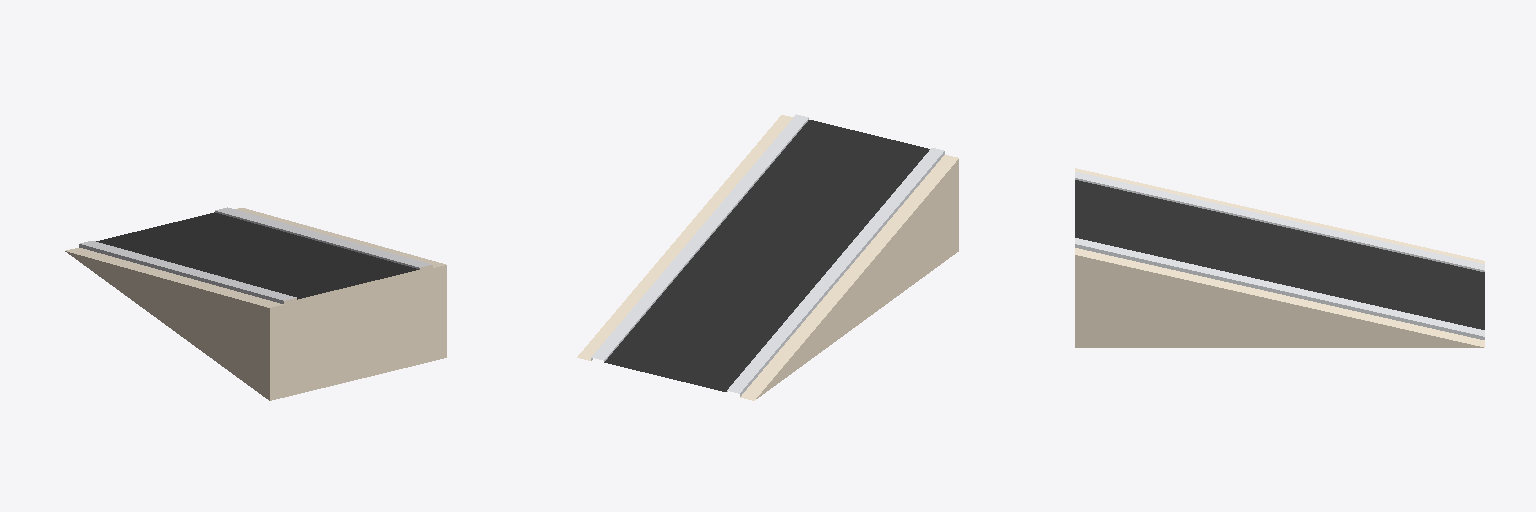
Rendered from roadRampLongWall.obj.
3 renders of one model, left to right at view 1: azimuth 30°, elevation 25°; view 2: azimuth 150°, elevation 25°; view 3: azimuth 270°, elevation 25°, orthographic.
Visible parts, largest first — view 1: roadRampLongWall; view 2: roadRampLongWall; view 3: roadRampLongWall.
Boxes of the visible parts, x1,y1,x2,y2 form: roadRampLongWall: [65, 207, 446, 400]; roadRampLongWall: [577, 114, 958, 400]; roadRampLongWall: [1075, 168, 1484, 347].
Bounding box in the file's own units: 1 × 0.52 × 2.